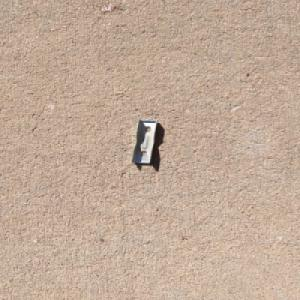ClampPart: (129, 117, 160, 165)
